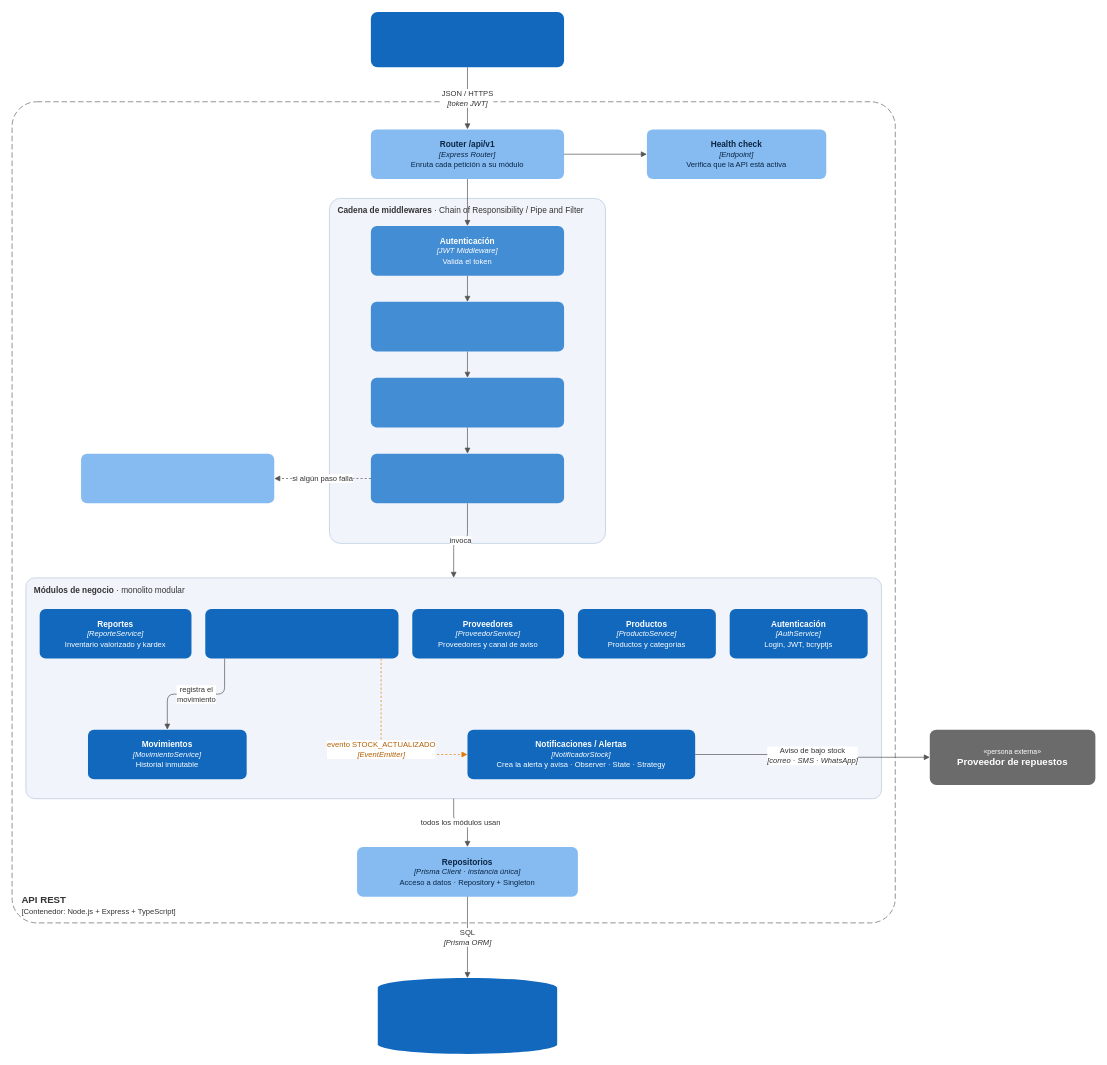
This 1107x1065 diagram has some shape labels left out. The shapes that lost their labels are listed below. From the top down, each one's centre as x and y in pixels, then its label:
(x=467, y=39): «contenedor» Aplicación web (SPA) [React + Vite + TypeScript]
(x=467, y=326): Autorización [Roles Middleware] ADMINISTRADOR / MECANICO
(x=467, y=402): Validación [Esquemas Zod] Valida los datos recibidos
(x=177, y=478): Manejo de errores [Error Middleware] Respuesta con formato uniforme
(x=467, y=478): Controladores [Express] Llaman al módulo correspondiente
(x=301, y=633): Inventario / Stock [InventarioFacade] Entrada/salida en una transacción · Facade
(x=467, y=1016): «contenedor: base de datos» Base de datos [SQLite / PostgreSQL]
